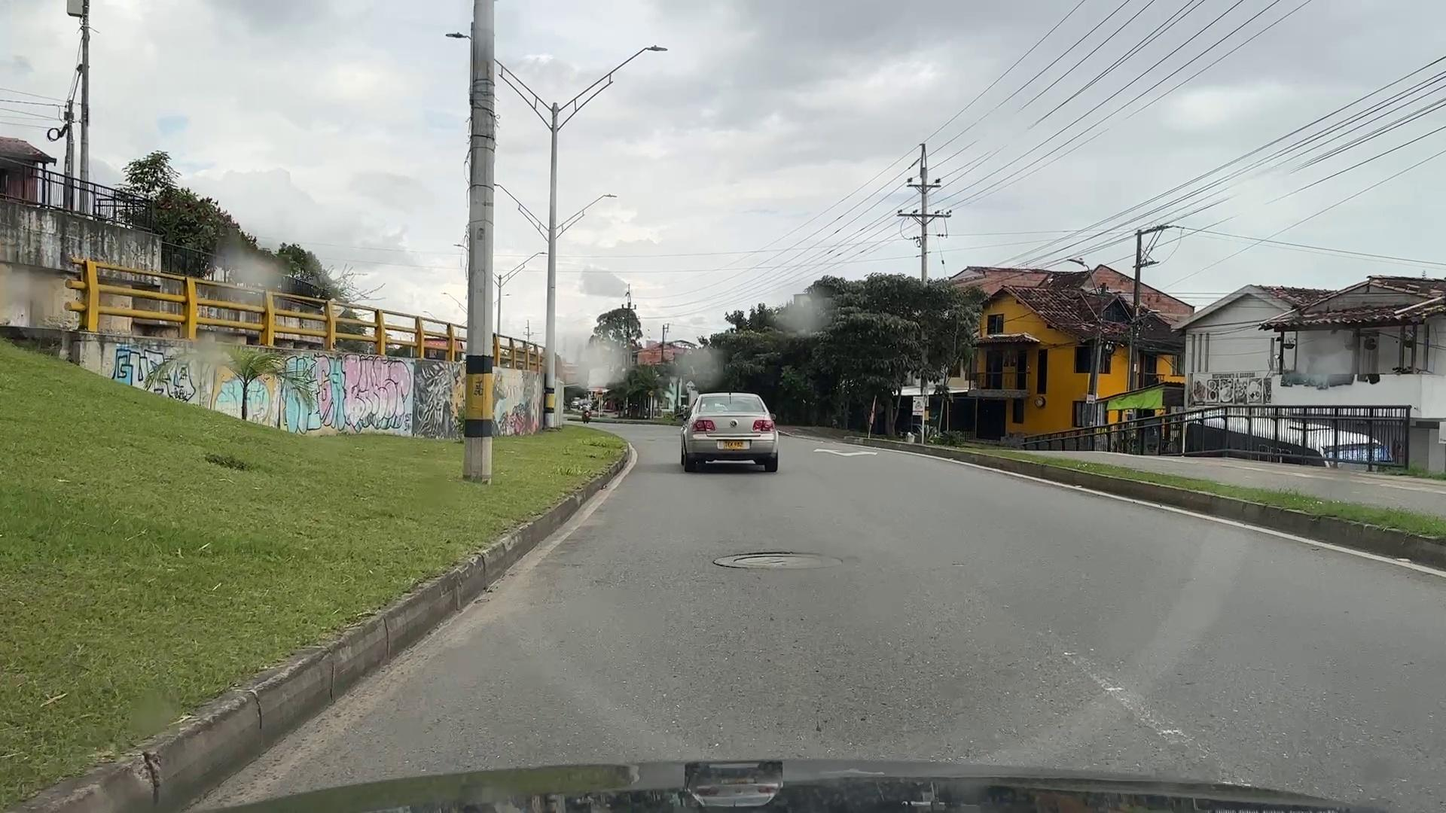registro: (734, 556, 822, 565)
